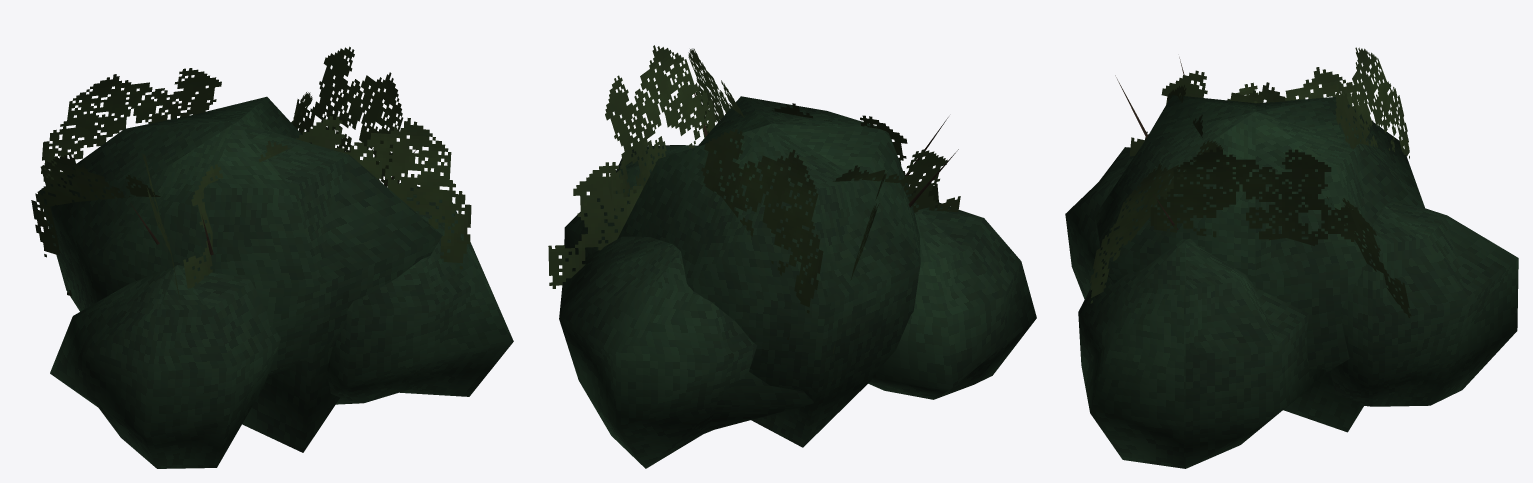
The model's file is ext_bush.glb.
3 renders of one model, left to right at view 1: azimuth 30°, elevation 25°; view 2: azimuth 150°, elevation 25°; view 3: azimuth 270°, elevation 25°, orthographic.
Parts seen in each view (by area): view 1: leaves; view 2: leaves; view 3: leaves.
Part boxes in pixels (x1,y1,x2,y2): leaves: (31, 46, 513, 468); leaves: (548, 45, 1036, 468); leaves: (1065, 47, 1518, 468).
Size of the model in its own units: 2.01 by 1.53 by 1.94.
Materials: 3 (3 with a texture image).
